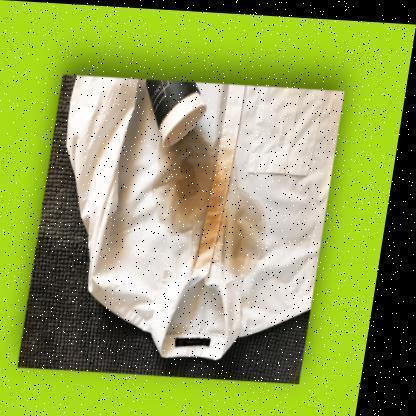coffee: (170, 144, 209, 213), (212, 206, 258, 249)
